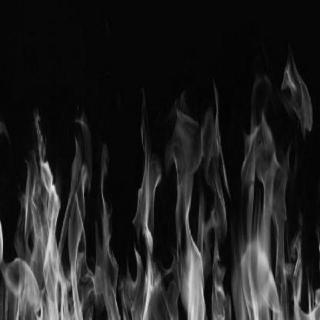Fire: (0, 82, 318, 318)
